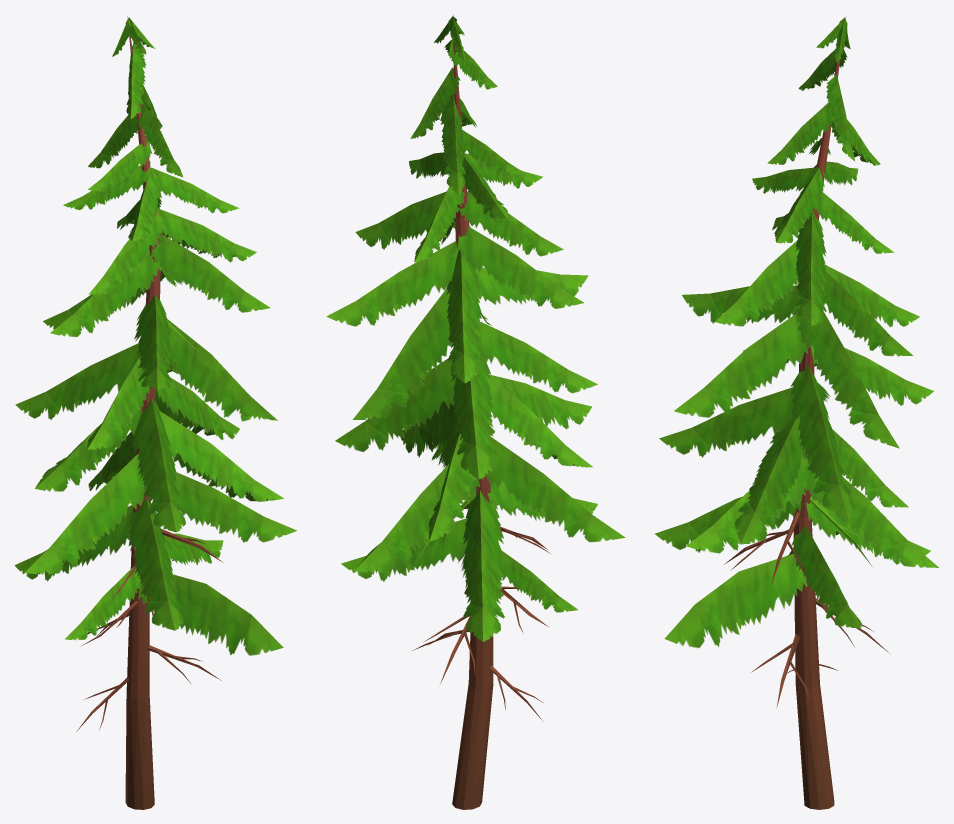
The model's file is tree2.glb.
The picture shows the model from 3 angles, left to right: view 1: azimuth 30°, elevation 25°; view 2: azimuth 150°, elevation 25°; view 3: azimuth 270°, elevation 25°; orthographic projection. The views are drawn at different scales.
Visible parts, largest first — view 1: MAT_Leaf2, MAT_MAIN2; view 2: MAT_Leaf2, MAT_MAIN2; view 3: MAT_Leaf2, MAT_MAIN2.
Part boxes in pixels (bbox=[...]): MAT_Leaf2: bbox=[14, 17, 296, 655]; MAT_MAIN2: bbox=[76, 16, 223, 809]; MAT_Leaf2: bbox=[326, 16, 625, 641]; MAT_MAIN2: bbox=[412, 15, 550, 809]; MAT_Leaf2: bbox=[654, 17, 938, 647]; MAT_MAIN2: bbox=[724, 16, 890, 809].
Size of the model in its own units: 8.14 by 24.28 by 7.94.
2 materials, 2 textured.
